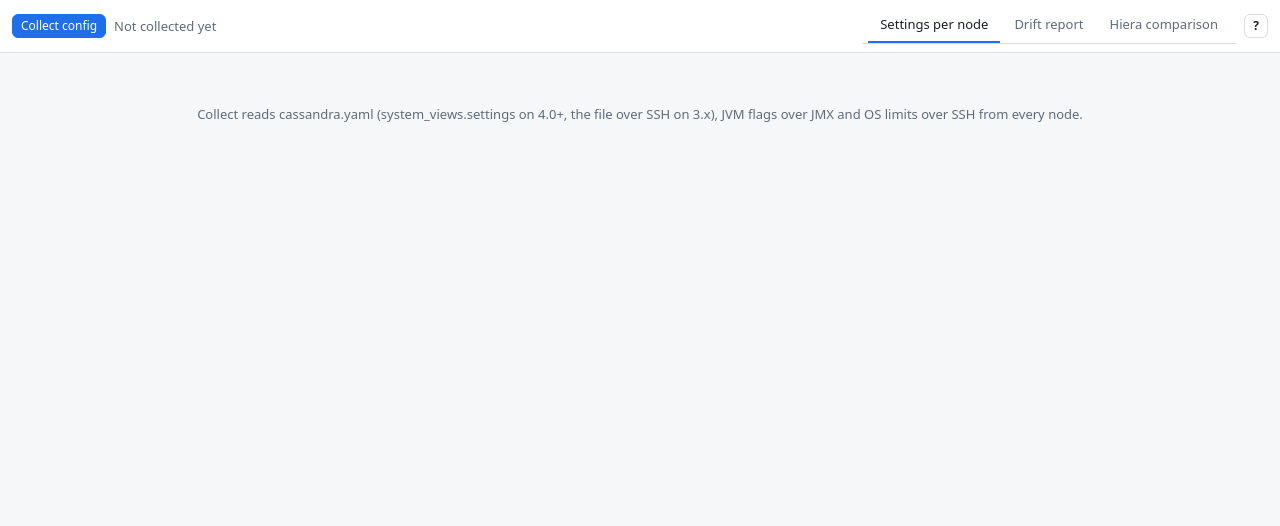
Test: ConfigPanel › edits and saves Hiera facts
Click the tab "Hiera comparison".
click(1164, 25)  # box [1098,8,1230,43]
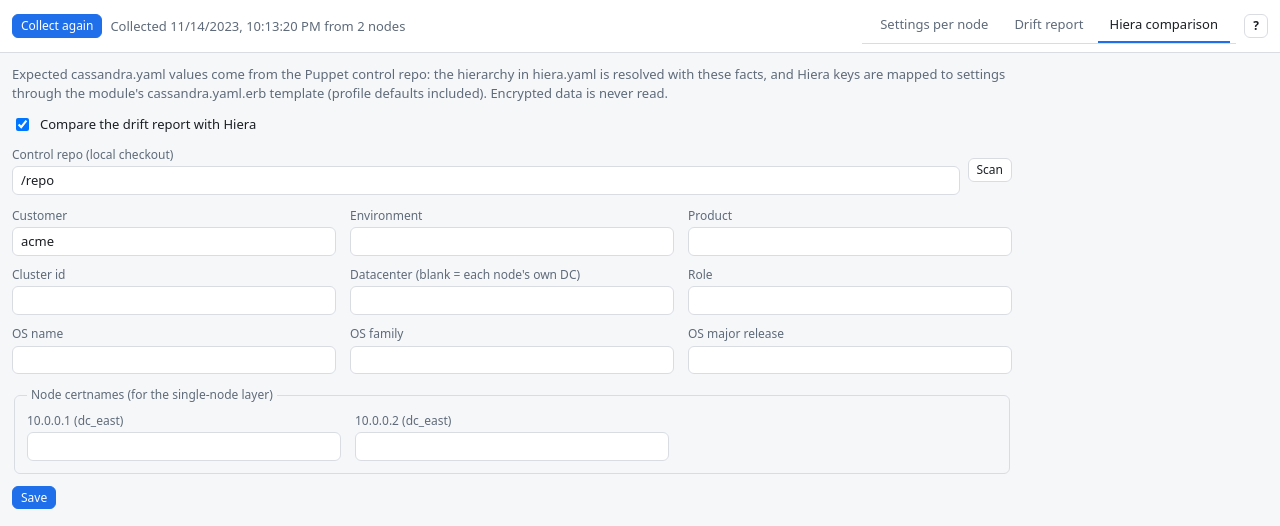
Type "prod" into the field labelled "Environment".
click(512, 242); type("prod")  # box [350,227,674,256]
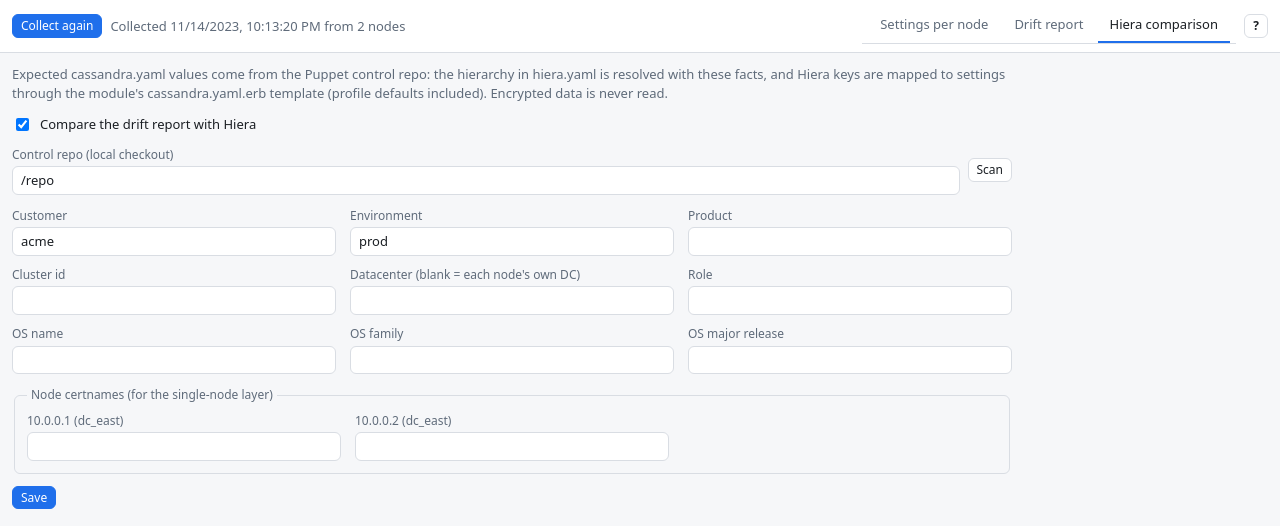
Click the button "Save".
click(34, 498)  # box [12,486,56,510]
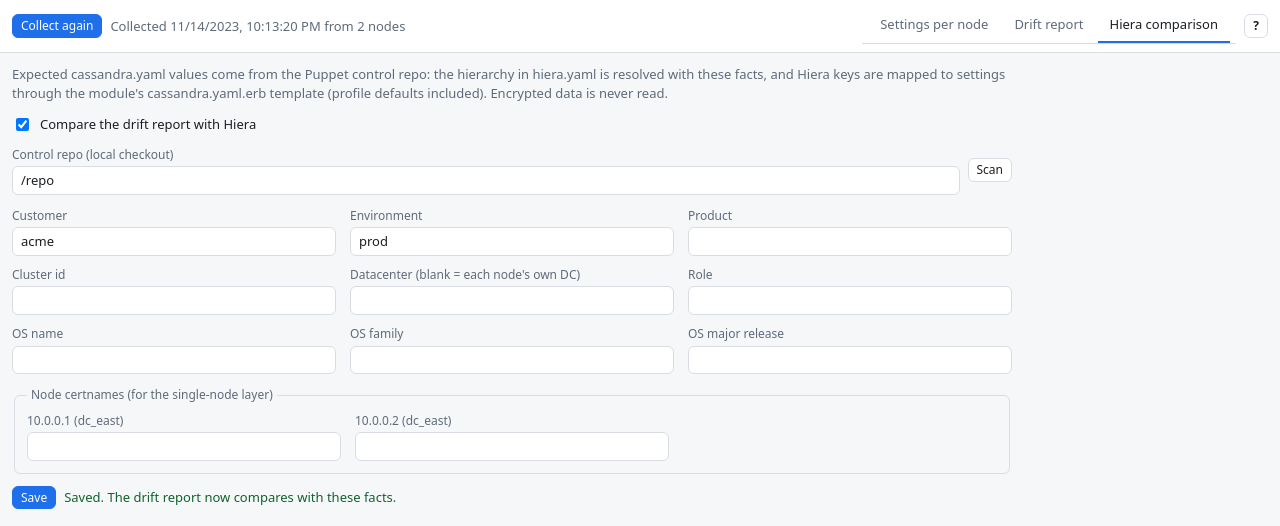
Expected: the message "Saved. The drift report now compares with these facts." is shown, [64,488,396,507]
